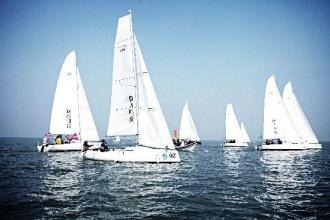fanchuan: (88, 12, 178, 163), (37, 48, 104, 151), (258, 77, 298, 151), (282, 81, 324, 147), (218, 102, 253, 151), (176, 100, 205, 151)
